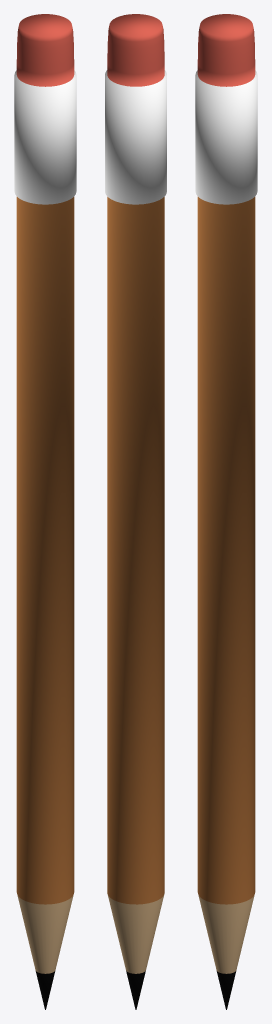
The model's file is pencil.fbx.
3 renders of one model, left to right at view 1: azimuth 90°, elevation 25°; view 2: azimuth 150°, elevation 25°; view 3: azimuth 270°, elevation 25°, orthographic.
Visible parts, largest first — view 1: Pencil; view 2: Pencil; view 3: Pencil.
Part boxes in pixels (x1,y1,x2,y2): Pencil: [14, 14, 76, 1009]; Pencil: [105, 14, 166, 1009]; Pencil: [195, 14, 257, 1009].
Bounding box in the file's own units: 0.8 × 14 × 0.8.
